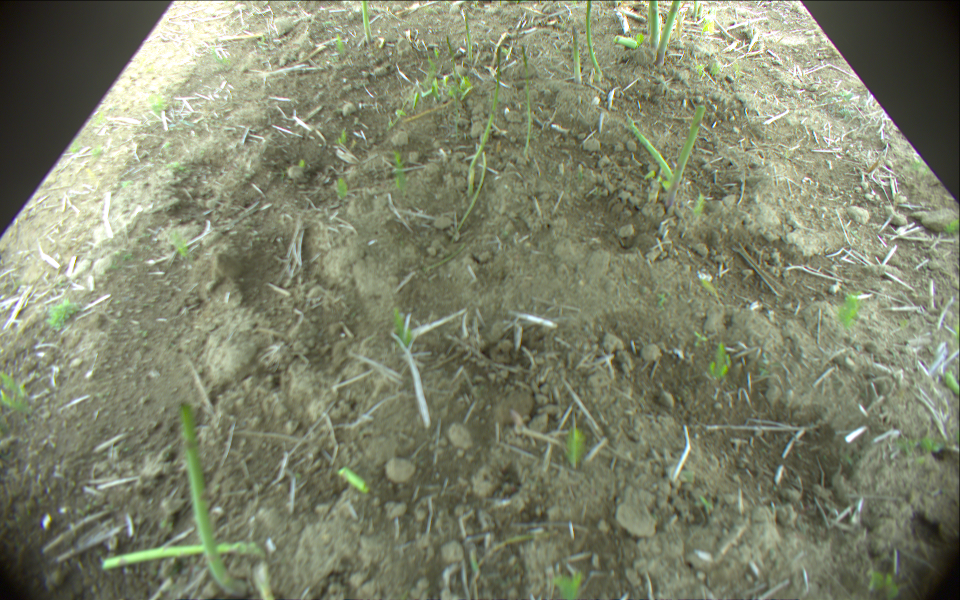aspa: (179, 398, 237, 593), (464, 45, 501, 185), (660, 103, 705, 213), (103, 543, 264, 568), (452, 153, 489, 238), (628, 119, 672, 179), (515, 45, 533, 155), (585, 1, 605, 78), (658, 1, 680, 63), (338, 467, 370, 493), (571, 21, 582, 85), (359, 1, 373, 43), (465, 14, 474, 63), (615, 35, 642, 50), (651, 1, 659, 47), (691, 1, 698, 18)
